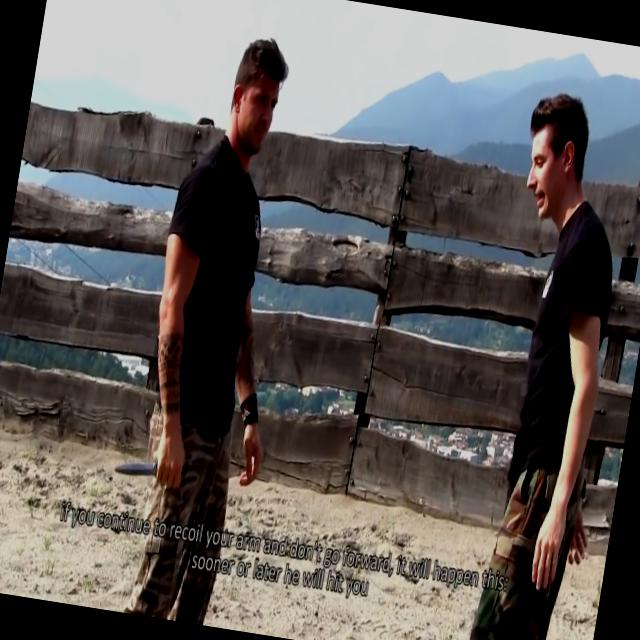knife: (105, 446, 188, 498)
